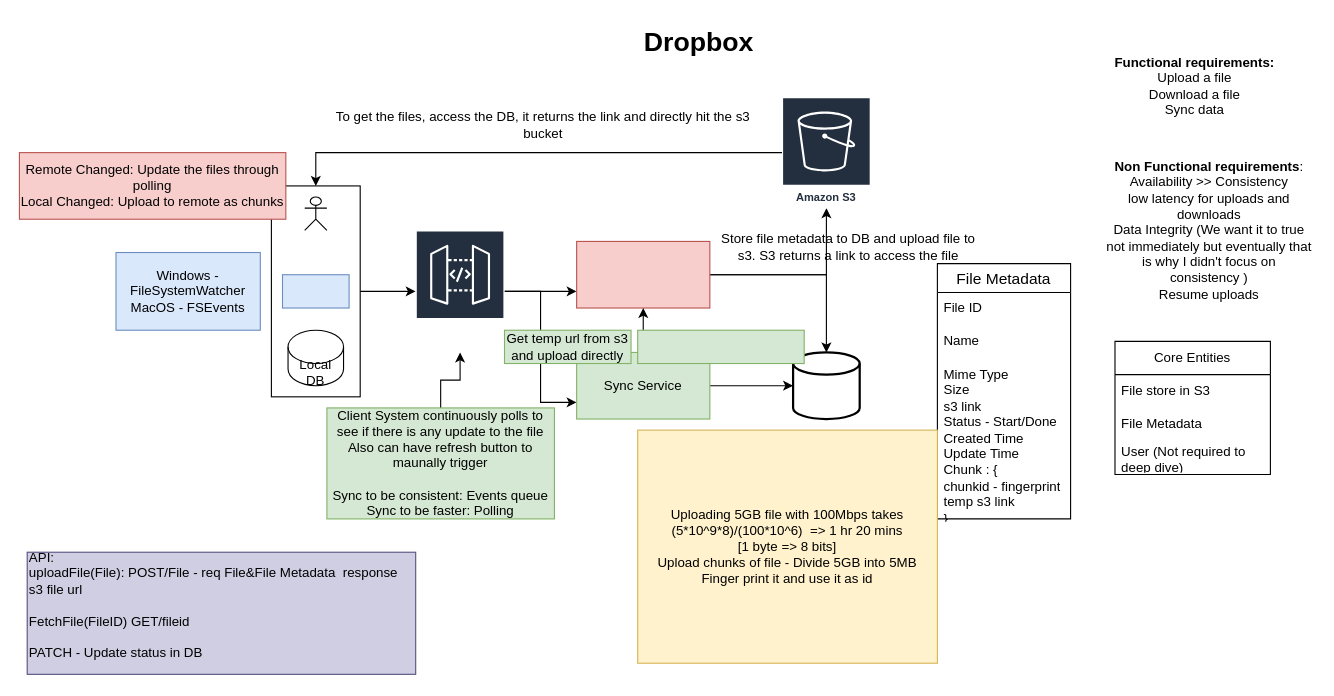
Some shapes in this 1334 by 696 pixel diagram are drawn without their labels. Here are the shapes that lost their labels. From the top down, the centre of each, then its label:
(315,213): Client
(315,291): File System
(459,290): Amazon API Gateway
(643,274): File Service
(720,346): Get all changes since last 60 seconds
(825,385): Dynamo DB
